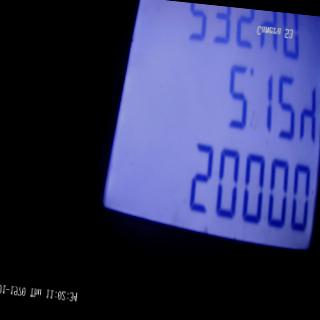screen: (86, 0, 320, 275)
